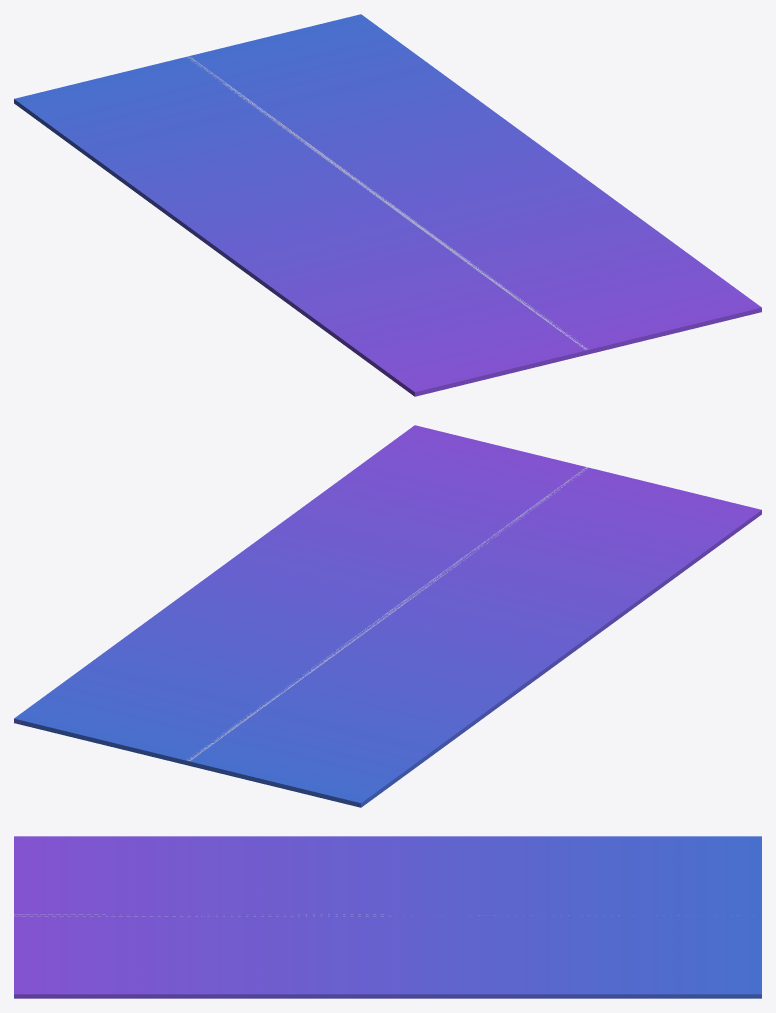
Rendered from Holdnote.glb.
3 renders of one model, top to bottom at view 1: azimuth 30°, elevation 25°; view 2: azimuth 150°, elevation 25°; view 3: azimuth 270°, elevation 25°, orthographic. The views are drawn at different scales.
Visible parts, largest first — view 1: note, line; view 2: note, line; view 3: note.
Boxes of the visible parts, bbox=[...] form: note: bbox=[14, 14, 761, 396]; line: bbox=[186, 56, 589, 350]; note: bbox=[14, 425, 761, 807]; line: bbox=[187, 467, 587, 761]; note: bbox=[14, 836, 761, 998].
Bounding box in the file's own units: 4 × 0.05 × 8.
Materials: 2 (1 with a texture image).
